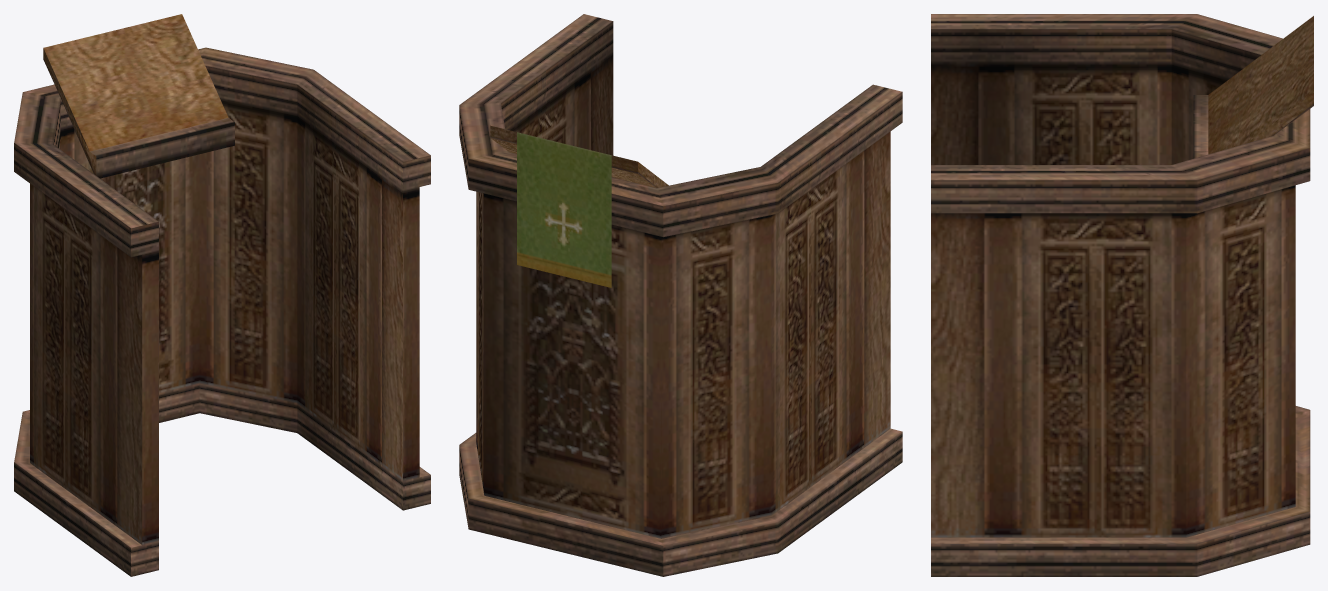
File: pulpit.fbx
3 views of the same model, side by side, from view 1: azimuth 30°, elevation 25°; view 2: azimuth 150°, elevation 25°; view 3: azimuth 270°, elevation 25° (orthographic). The views are drawn at different scales.
Parts seen in each view (by area): view 1: mesh_0; view 2: mesh_0; view 3: mesh_0.
Boxes of the visible parts, x1,y1,x2,y2 form: mesh_0: [14, 14, 430, 576]; mesh_0: [459, 14, 902, 576]; mesh_0: [931, 14, 1313, 576].
Bounding box in the file's own units: 108 × 133 × 105.
1 material, 1 textured.
